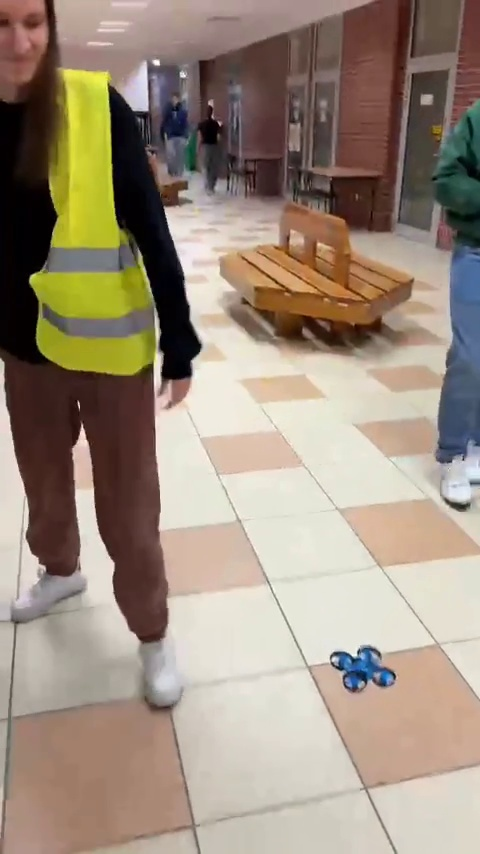drone: (328, 644, 399, 698)
no vest: (191, 96, 220, 181), (158, 90, 191, 162)
vest: (0, 0, 203, 661)
